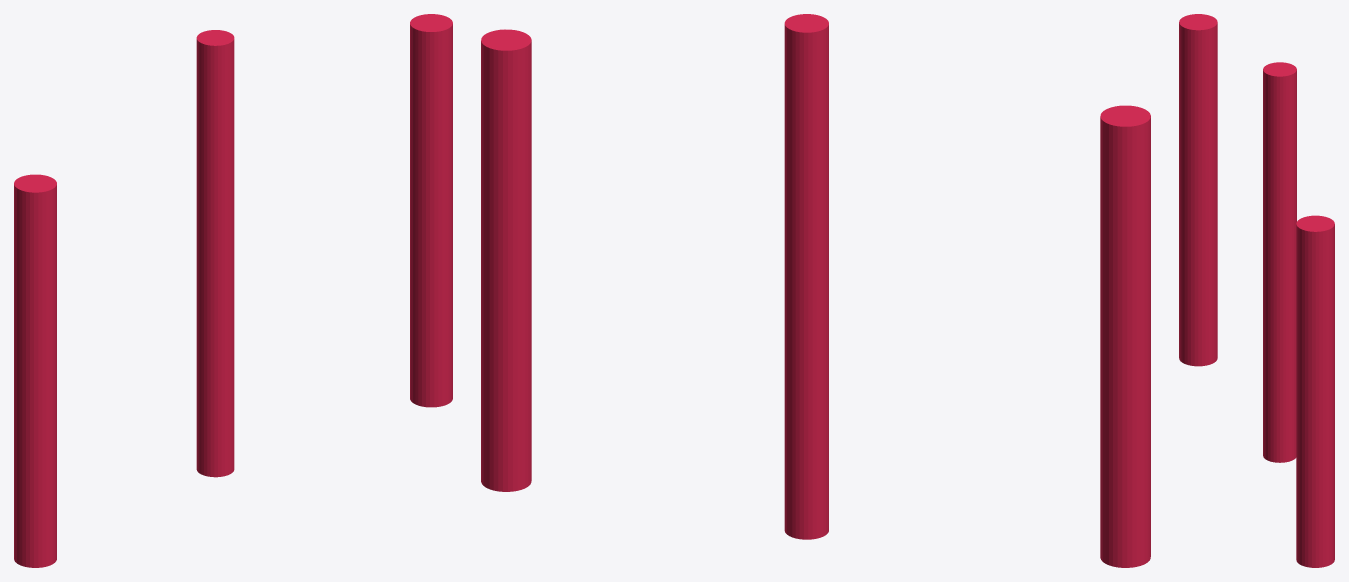
The model's file is cylinders3Archs_Mdl_Dec_Z2.fbx.
3 views of the same model, side by side, from view 1: azimuth 30°, elevation 25°; view 2: azimuth 150°, elevation 25°; view 3: azimuth 270°, elevation 25° (orthographic). The views are drawn at different scales.
Visible parts, largest first — view 1: Cylinder.065, Cylinder.062, Cylinder.066; view 2: Cylinder.065, Cylinder.066, Cylinder.062; view 3: Cylinder.062, Cylinder.066, Cylinder.065.
Part boxes in pixels (bbox=[...]): Cylinder.065: bbox=[196, 30, 234, 477]; Cylinder.062: bbox=[14, 174, 56, 567]; Cylinder.066: bbox=[410, 14, 452, 407]; Cylinder.065: bbox=[784, 14, 828, 539]; Cylinder.066: bbox=[481, 29, 531, 491]; Cylinder.062: bbox=[1100, 105, 1150, 567]; Cylinder.062: bbox=[1179, 14, 1217, 366]; Cylinder.066: bbox=[1296, 215, 1334, 567]; Cylinder.065: bbox=[1263, 62, 1296, 462].
Bounding box in the file's own units: 456 × 378 × 138.
